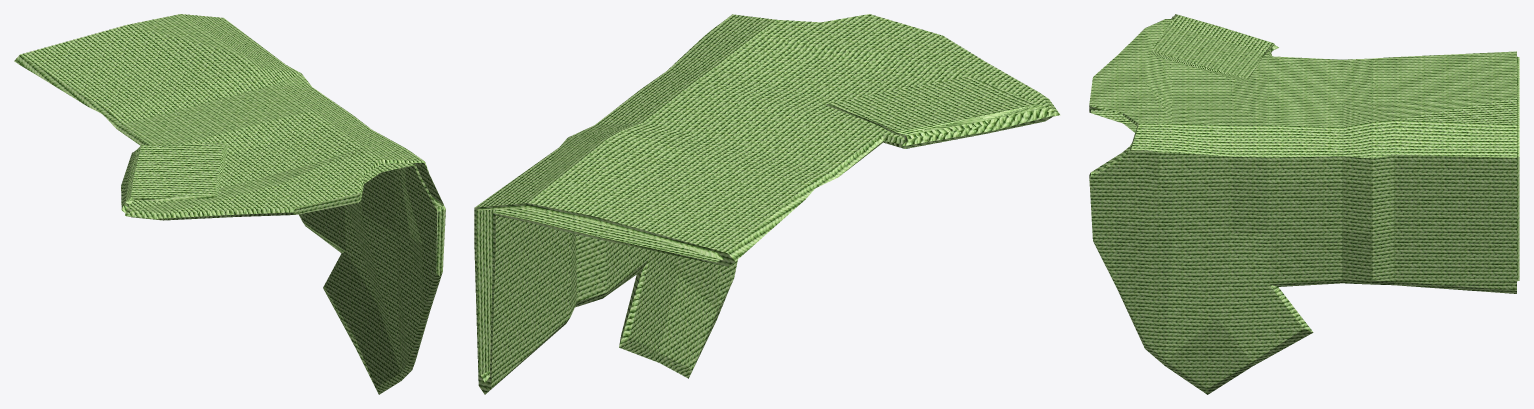
File: camiseta4_2.fbx
3 renders of one model, left to right at view 1: azimuth 30°, elevation 25°; view 2: azimuth 150°, elevation 25°; view 3: azimuth 270°, elevation 25°, orthographic. The views are drawn at different scales.
Parts seen in each view (by area): view 1: shirt6:Mesh; view 2: shirt6:Mesh; view 3: shirt6:Mesh.
Part boxes in pixels (box(x1,y1,x2,y2)): shirt6:Mesh: box(14, 14, 445, 394); shirt6:Mesh: box(474, 14, 1060, 394); shirt6:Mesh: box(1089, 14, 1519, 394).
Bounding box in the file's own units: 1.79 × 1.63 × 2.45.
1 material, 1 textured.
